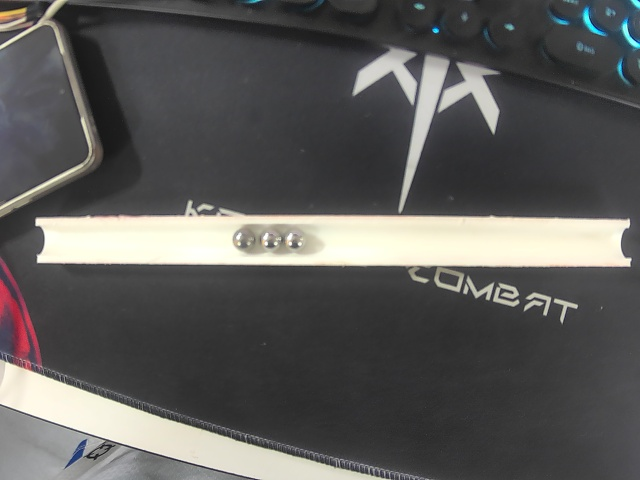steelball: (232, 228, 257, 252), (258, 228, 283, 252), (283, 227, 306, 252)
